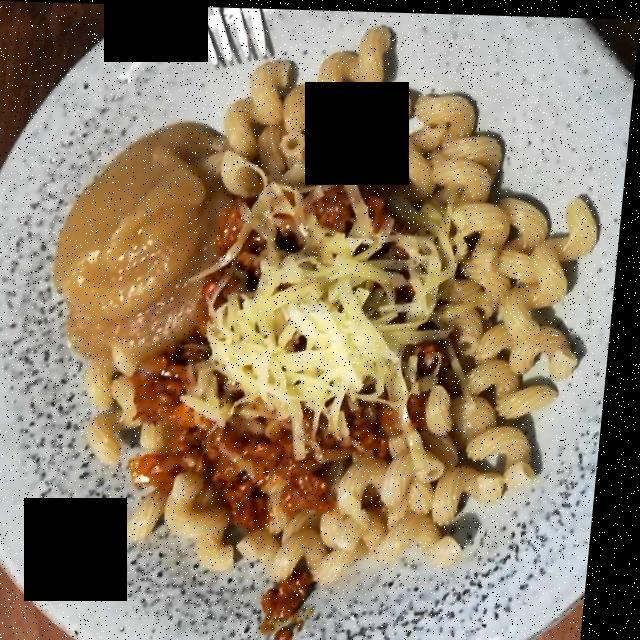applesauce: (60, 111, 232, 351)
cheese: (221, 197, 454, 456)
pasta: (98, 43, 619, 592)
